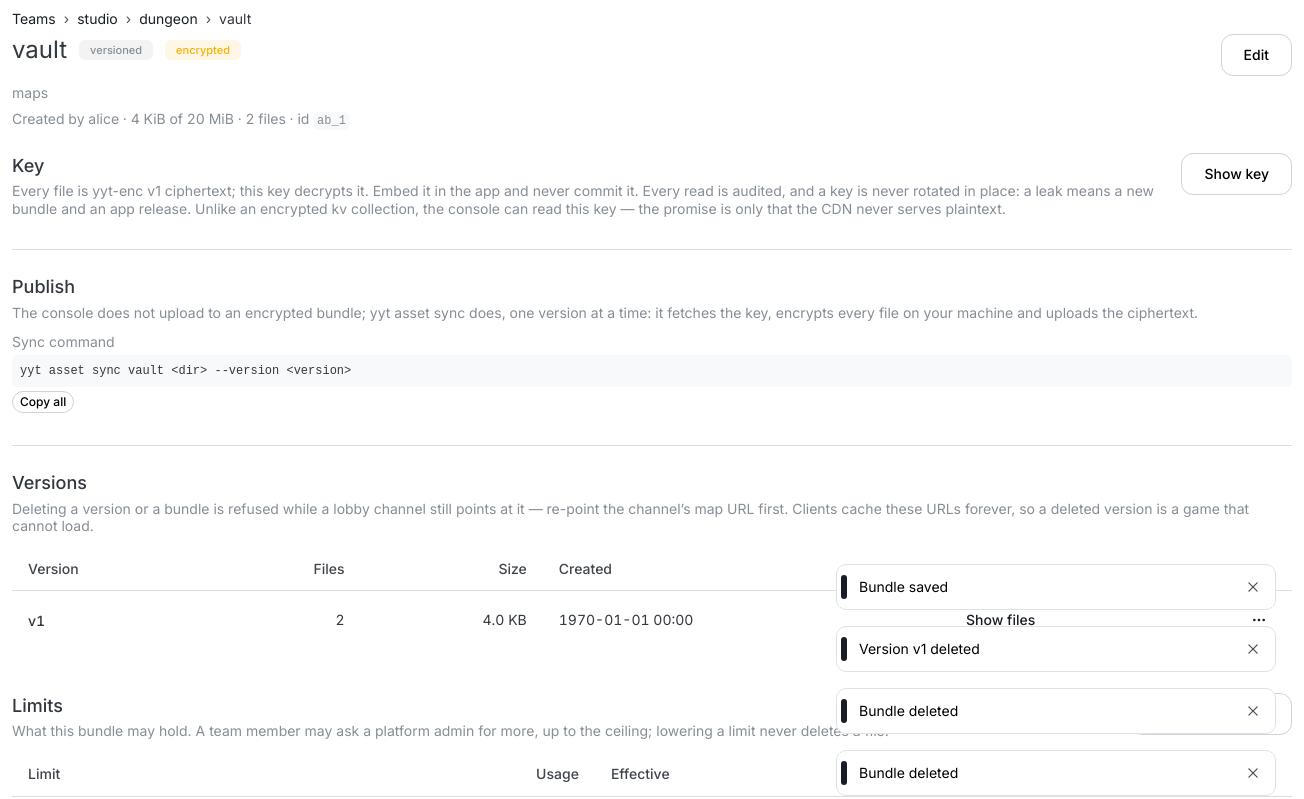
Test: AssetBundlePage › an encrypted bundle › badges it, reveals the key on demand by POST, and points uploads at the CLI
Check: the heading "vault" is shown, box left=12, top=34, right=67, bottom=66
Check: the text "encrypted" is shown, box left=176, top=41, right=230, bottom=59
Click the button "Show key": (1237, 174) left=1181, top=153, right=1292, bottom=195
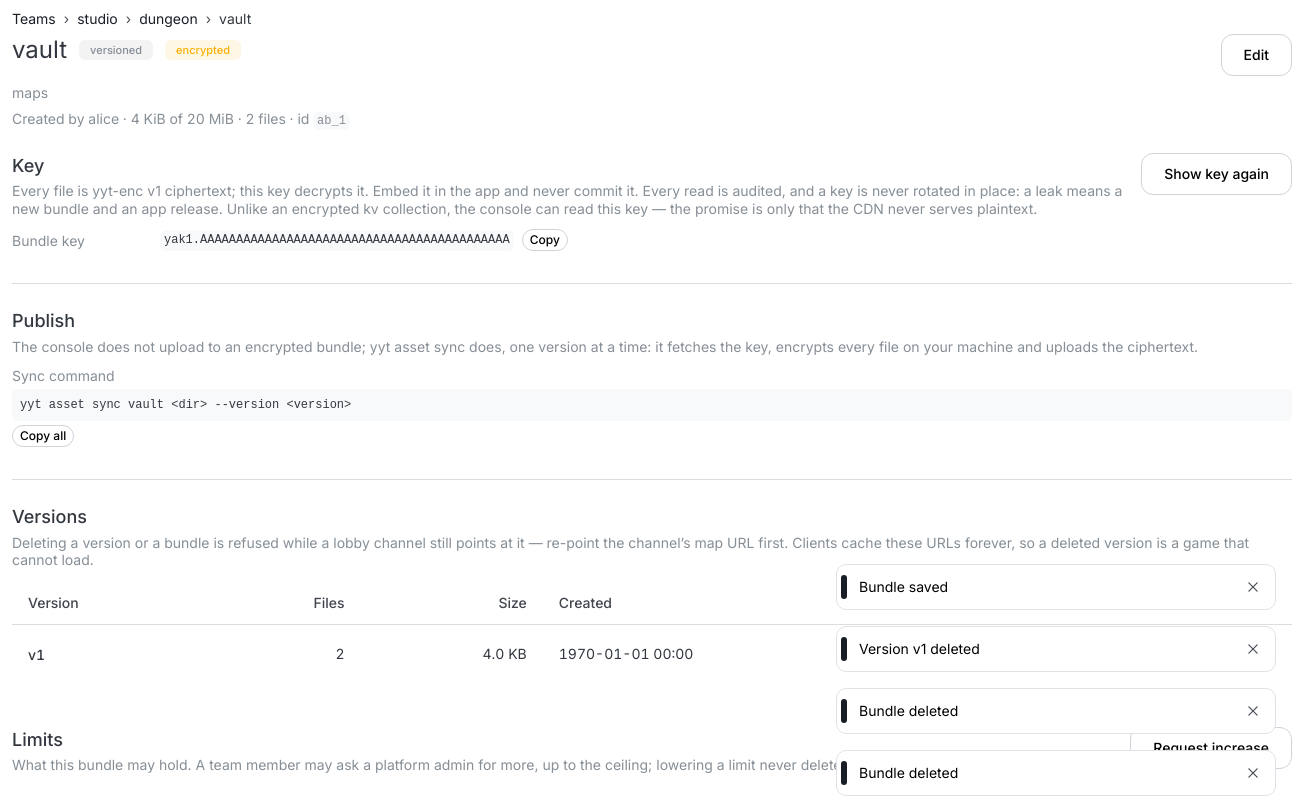
Check: the text "v1" is shown, box left=28, top=646, right=45, bottom=662
Check: the button "Show key again" is shown, box left=1141, top=153, right=1292, bottom=195
